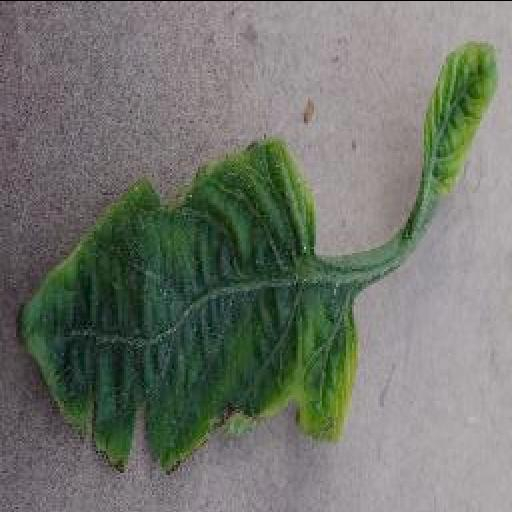disease_tomato: (17, 136, 363, 474), (416, 40, 500, 196)
